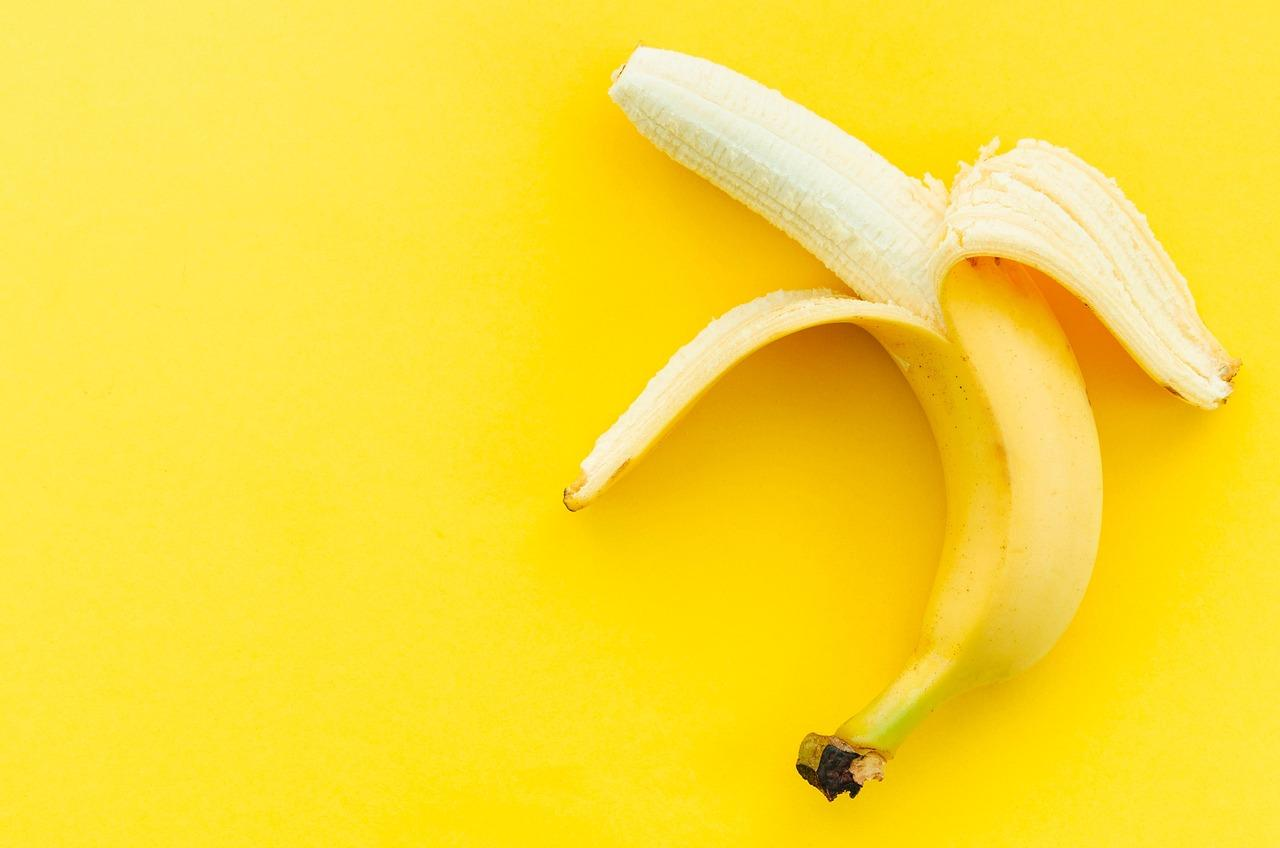banana: (543, 49, 1280, 830)
